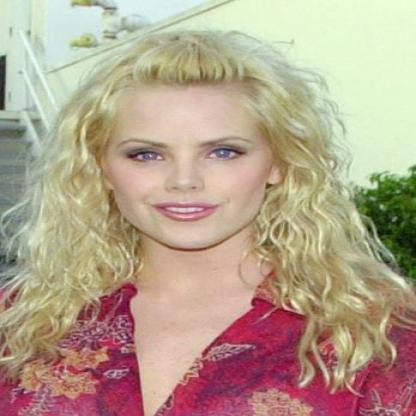long-hair: (13, 250, 387, 302)
